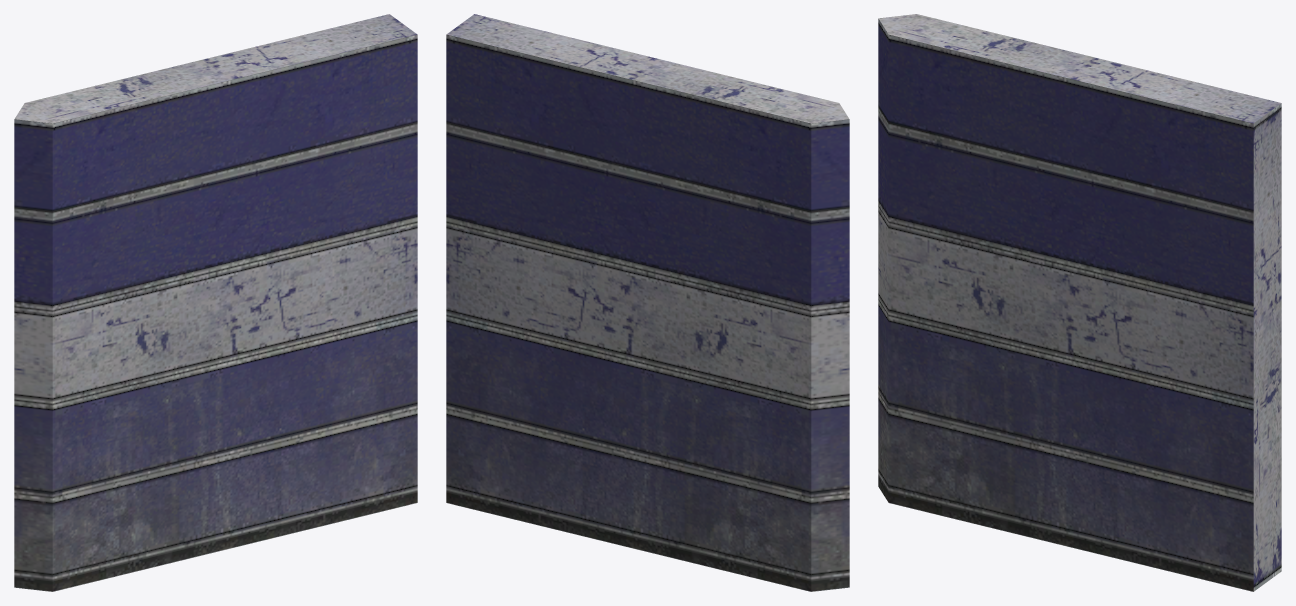
Rendered from wall06.obj.
The picture shows the model from 3 angles, left to right: view 1: azimuth 30°, elevation 25°; view 2: azimuth 150°, elevation 25°; view 3: azimuth 330°, elevation 25°; orthographic projection.
Visible parts, largest first — view 1: Cube.009; view 2: Cube.009; view 3: Cube.009.
Part boxes in pixels (x1,y1,x2,y2): Cube.009: [14, 14, 417, 591]; Cube.009: [446, 14, 849, 591]; Cube.009: [878, 14, 1281, 591].
Size of the model in its own units: 2.5 by 2.88 by 0.3125.
